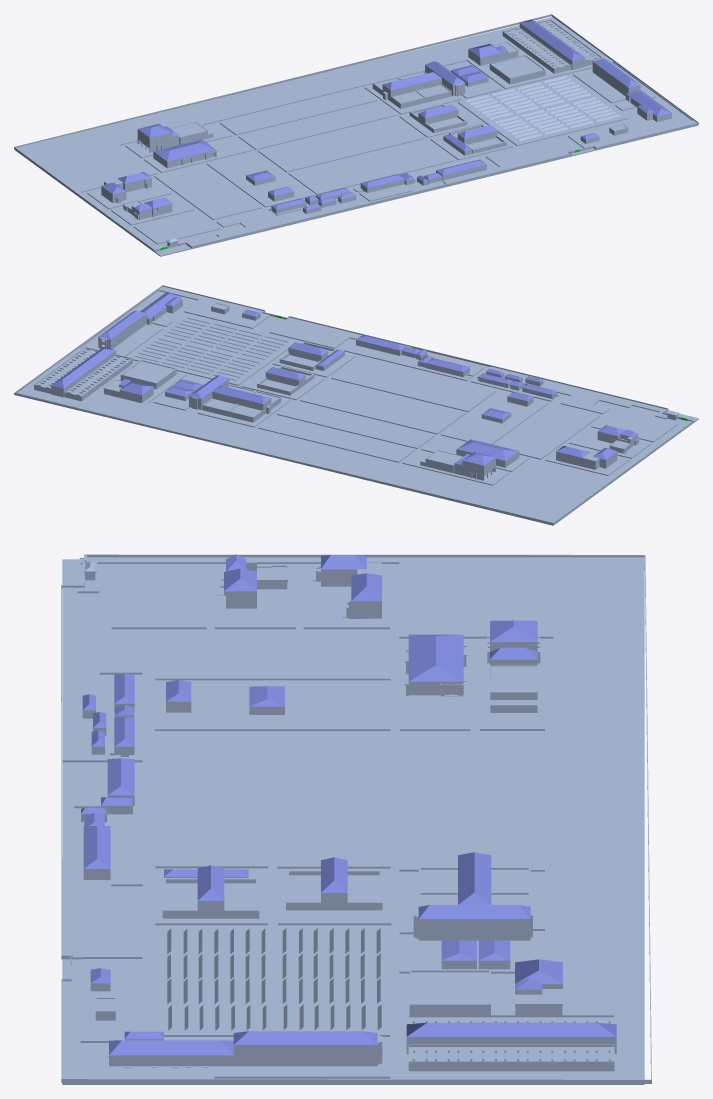
Rendered from VIL.glb.
3 renders of one model, top to bottom at view 1: azimuth 30°, elevation 25°; view 2: azimuth 150°, elevation 25°; view 3: azimuth 270°, elevation 25°, orthographic. The views are drawn at different scales.
Parts seen in each view (by area): view 1: Ground, Wall, Group548.001, Group809.001, Group547.001, Group543.001, Group919.001, Group551.001, Group162.001, Group693.001, Group120.001, Group4.001 (+1 smaller); view 2: Ground, Wall, Group548.001, Group809.001, Group547.001, Group543.001, Group919.001, Group551.001, Group162.001, Group693.001, Group120.001, Group802.001 (+1 smaller); view 3: Ground, Group548.001, Wall, Group547.001, Group919.001, Group543.001, Group551.001, Group809.001, Group162.001, Group693.001, Group120.001, Group4.001 (+12 smaller).
Boxes of the visible parts, x1,y1,x2,y2 form: Ground: (14,17,698,256); Wall: (14,14,698,252); Group548.001: (502,19,601,73); Group809.001: (372,70,451,108); Group547.001: (489,55,545,84); Group543.001: (409,103,467,133); Group919.001: (449,124,506,153); Group551.001: (520,19,584,61); Group162.001: (154,139,215,161); Group693.001: (170,122,213,144); Group120.001: (593,58,640,87); Group4.001: (626,90,671,116); Ground: (17,286,698,525); Wall: (14,285,694,524); Group548.001: (34,347,132,401); Group809.001: (202,384,281,422); Group547.001: (120,360,176,389); Group543.001: (257,366,314,395); Group919.001: (279,341,336,370); Group551.001: (51,347,115,388); Group162.001: (457,439,518,460); Group693.001: (420,450,463,473); Group120.001: (98,310,145,339); Group802.001: (212,385,270,403); Ground: (62,557,644,1084); Group548.001: (408,1015,614,1071); Wall: (61,554,651,1083); Group547.001: (409,970,490,1015); Group919.001: (162,878,259,918); Group543.001: (286,870,382,910); Group551.001: (406,1022,616,1036); Group809.001: (418,867,530,906); Group162.001: (408,634,463,681); Group693.001: (490,665,537,712); Group120.001: (233,1031,377,1044); Group4.001: (109,1040,233,1055).
Bounding box in the file's own units: 575 × 21.5 × 273.
